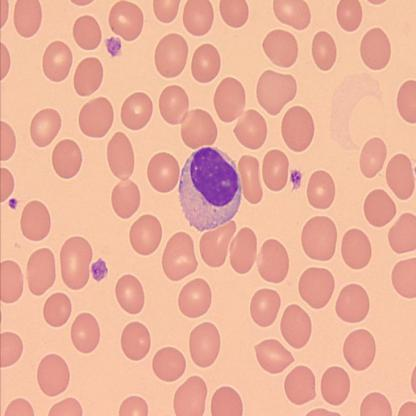Atypical lymphocyte: (179, 146, 240, 232)
